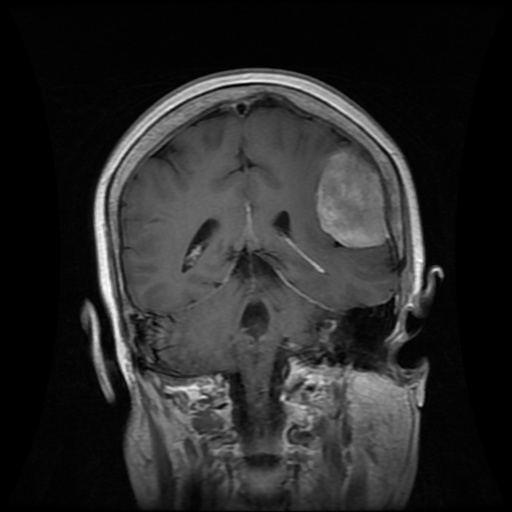meningioma: (316, 144, 391, 249)
